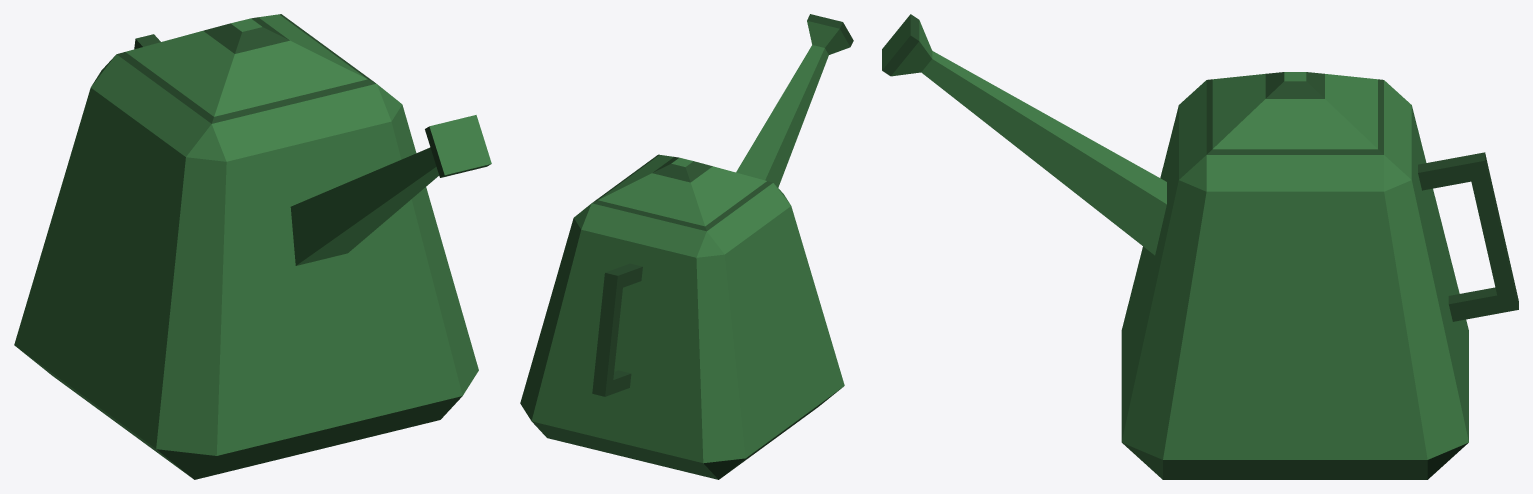
The model's file is Watering_Can_1_Green.fbx.
The picture shows the model from 3 angles, left to right: view 1: azimuth 30°, elevation 25°; view 2: azimuth 150°, elevation 25°; view 3: azimuth 270°, elevation 25°; orthographic projection. The views are drawn at different scales.
Visible parts, largest first — view 1: Watering_Can_1_Green; view 2: Watering_Can_1_Green; view 3: Watering_Can_1_Green.
Boxes of the visible parts, left/top/right/bottom form: Watering_Can_1_Green: left=14, top=14, right=491, bottom=479; Watering_Can_1_Green: left=520, top=14, right=853, bottom=479; Watering_Can_1_Green: left=882, top=14, right=1518, bottom=479.
Size of the model in its own units: 70 by 88.79 by 128.
